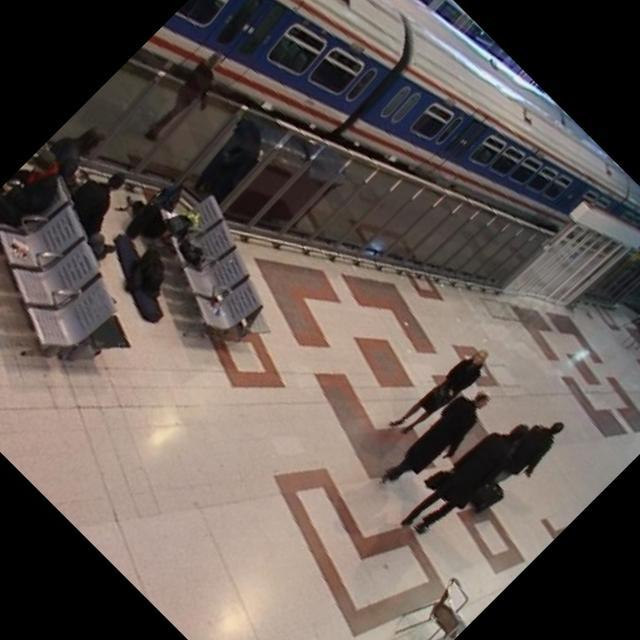person: (383, 401, 544, 562), (372, 374, 502, 504), (124, 39, 242, 158), (382, 334, 496, 447), (480, 409, 578, 507)
